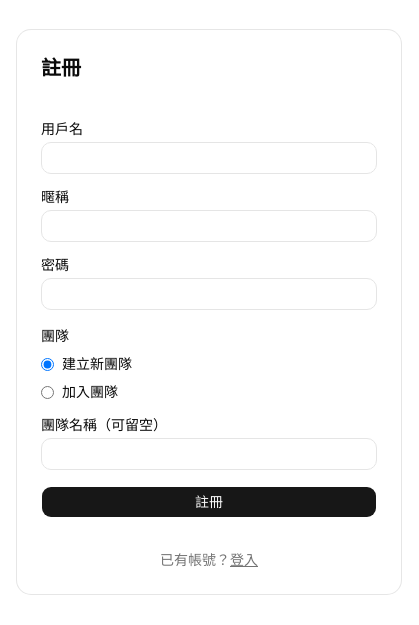
Test: RegisterPage › requires invite code when joining
The image size is (419, 625).
Click the radio button labelled "加入團隊".
click(48, 392)  # box [41,386,54,398]
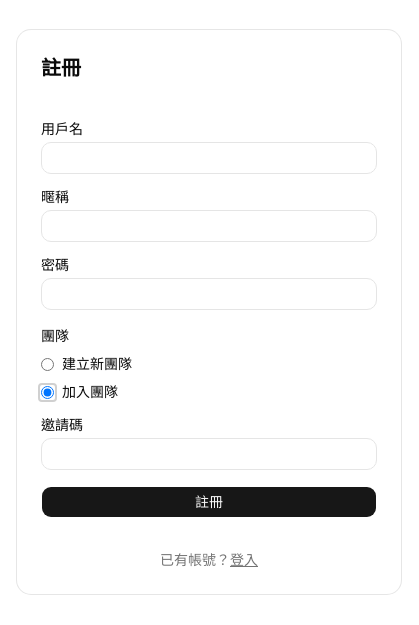
Type "bob" into the field labelled "用戶名".
click(209, 158); type("bob")  # box [41,142,377,174]
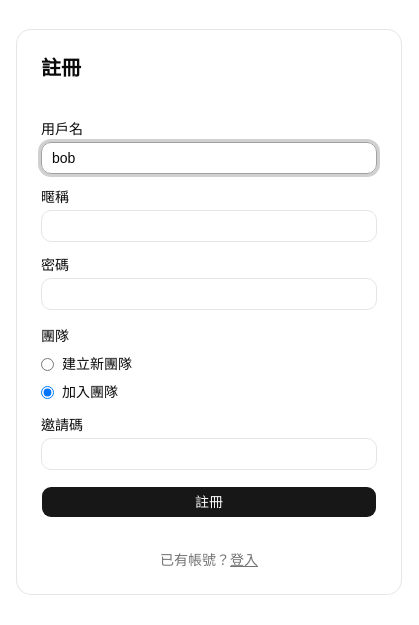
Type "Bob" into the field labelled "暱稱".
click(209, 226); type("Bob")  # box [41,210,377,242]
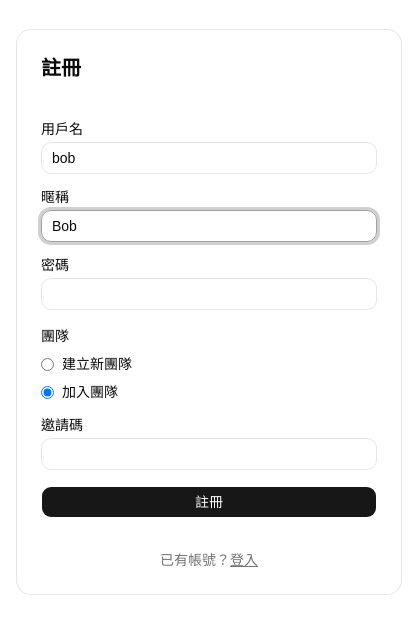
Type "secret1" into the password field labelled "密碼".
click(209, 294); type("secret1")  # box [41,278,377,310]
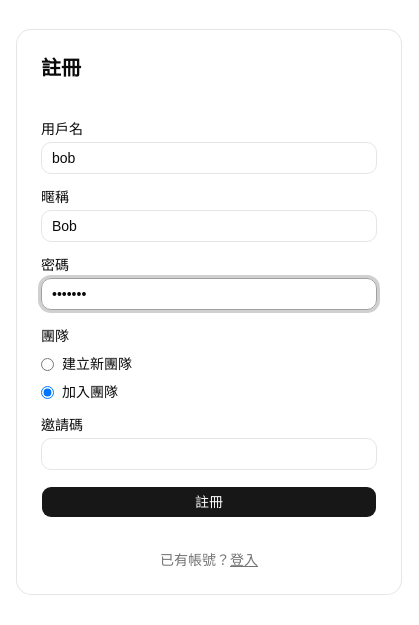
Click the button "註冊".
click(209, 502)  # box [41,486,377,518]
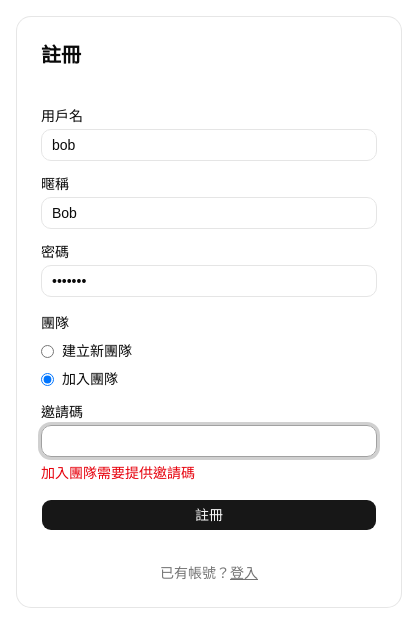
Result: the text "加入團隊需要提供邀請碼" is shown at [41,465,195,481]
